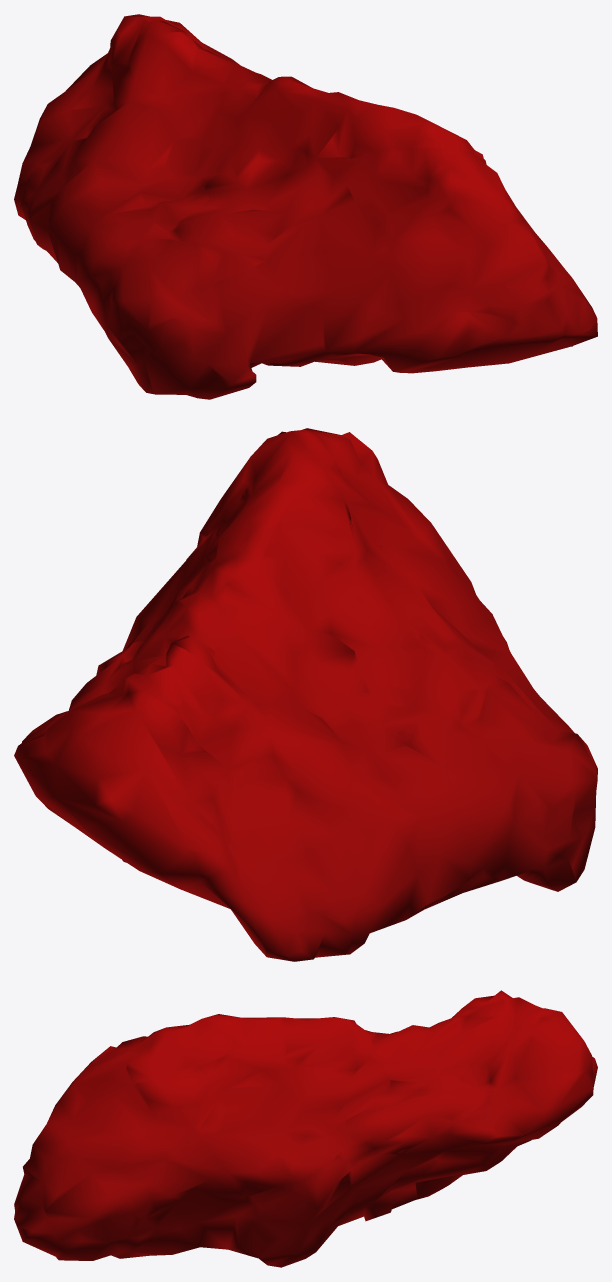
Rendered from mossrock_a_01.glb.
The picture shows the model from 3 angles, top to bottom: view 1: azimuth 30°, elevation 25°; view 2: azimuth 150°, elevation 25°; view 3: azimuth 270°, elevation 25°; orthographic projection. The views are drawn at different scales.
Visible parts, largest first — view 1: LOD0; view 2: LOD0; view 3: LOD0.
Part boxes in pixels (x1,y1,x2,y2): LOD0: [14, 14, 597, 399]; LOD0: [14, 428, 597, 961]; LOD0: [14, 990, 597, 1267].
Size of what is drawn, in the model's own units: 2.24 by 1.47 by 3.36.
